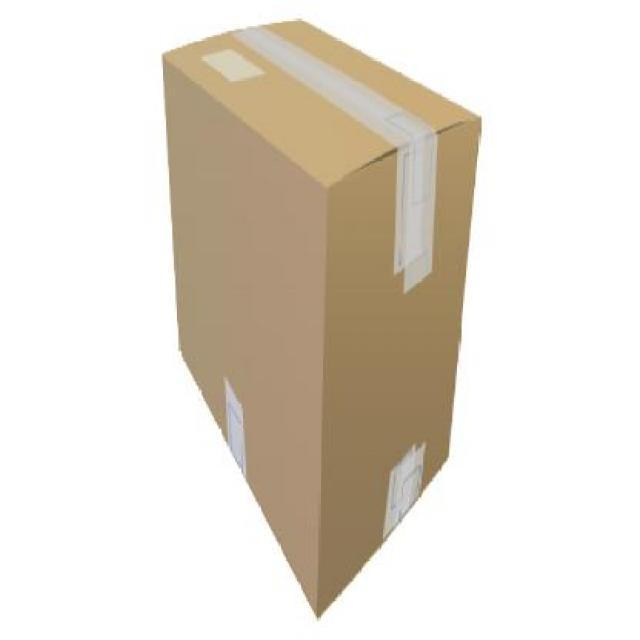box: (160, 16, 478, 615)
